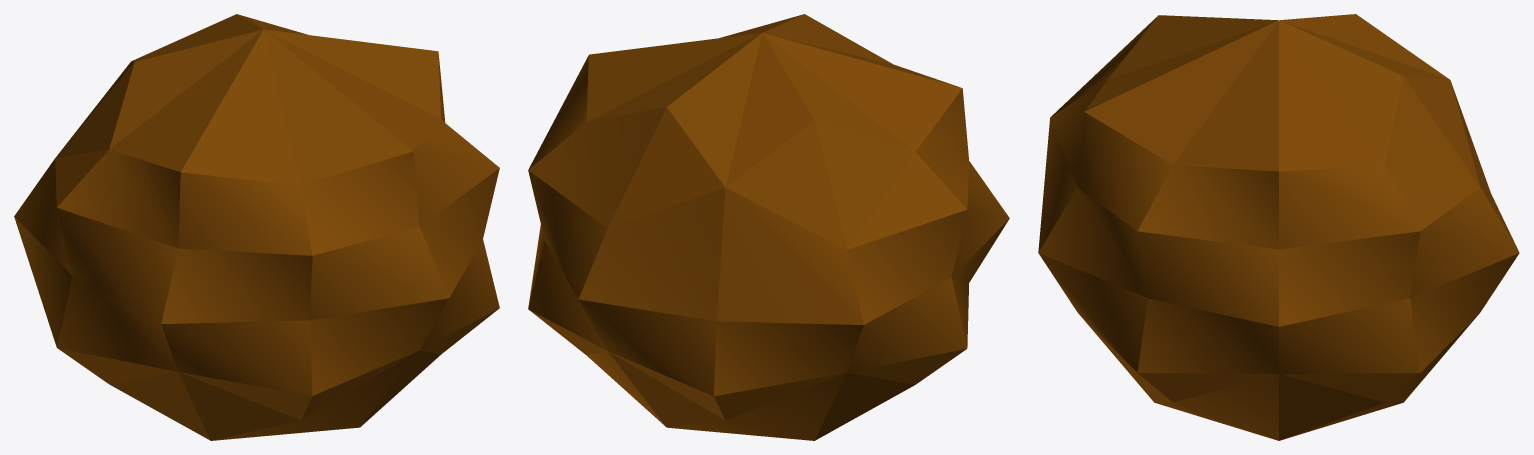
The model's file is DyingBush_v3.fbx.
The picture shows the model from 3 angles, left to right: view 1: azimuth 30°, elevation 25°; view 2: azimuth 150°, elevation 25°; view 3: azimuth 270°, elevation 25°; orthographic projection.
Parts seen in each view (by area): view 1: pSphere7; view 2: pSphere7; view 3: pSphere7.
Boxes of the visible parts, box(x1,y1,x2,y2) form: pSphere7: box(14, 14, 499, 440); pSphere7: box(528, 14, 1009, 440); pSphere7: box(1038, 14, 1519, 440).
Bounding box in the file's own units: 0.0553 × 0.0499 × 0.0539.
